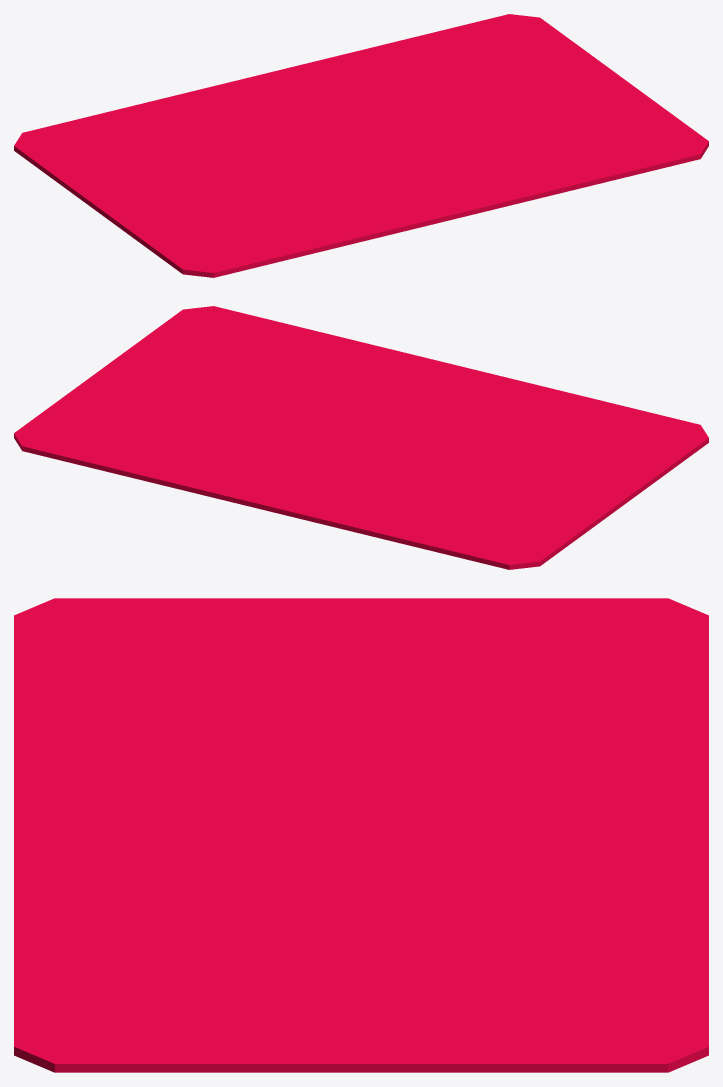
File: GamesE_E03_Tarjeta.fbx
The picture shows the model from 3 angles, top to bottom: view 1: azimuth 30°, elevation 25°; view 2: azimuth 150°, elevation 25°; view 3: azimuth 270°, elevation 25°; orthographic projection. The views are drawn at different scales.
Parts seen in each view (by area): view 1: Tarjeta; view 2: Tarjeta; view 3: Tarjeta.
Part boxes in pixels (x1=…): Tarjeta: x1=14, y1=14, x2=708, y2=277; Tarjeta: x1=14, y1=306, x2=708, y2=569; Tarjeta: x1=14, y1=598, x2=708, y2=1072.
Size of the model in its own units: 8.56 by 0.076 by 5.4.
